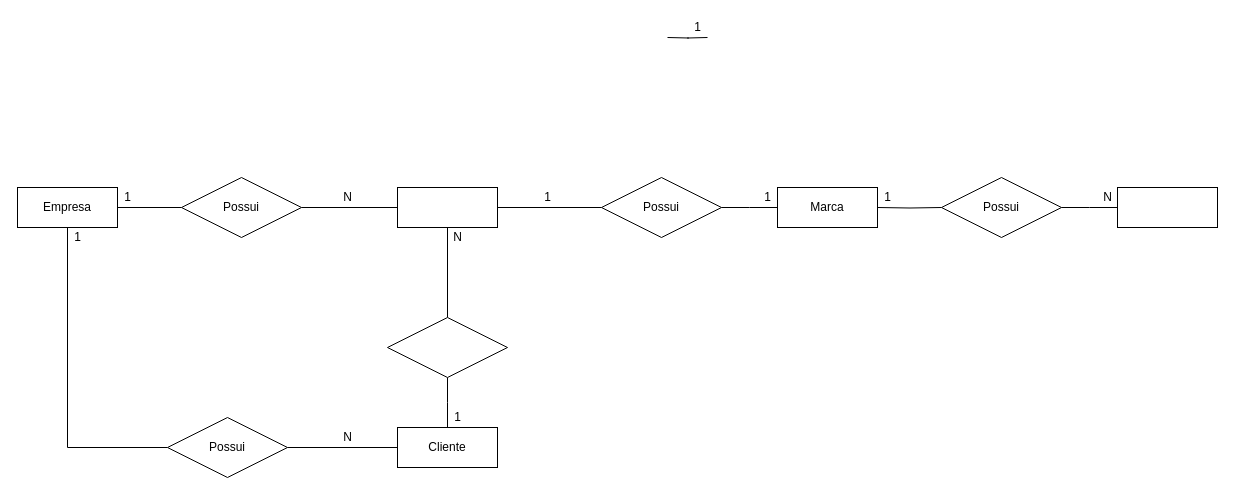
Some shapes in this 1235 by 495 pixel diagram are drawn without their labels. Here are the shapes that lost their labels. From the top down, the box of each, then its label:
(396, 186, 498, 228): Veículo
(1116, 186, 1218, 228): Modelo
(386, 316, 508, 378): Aluga
